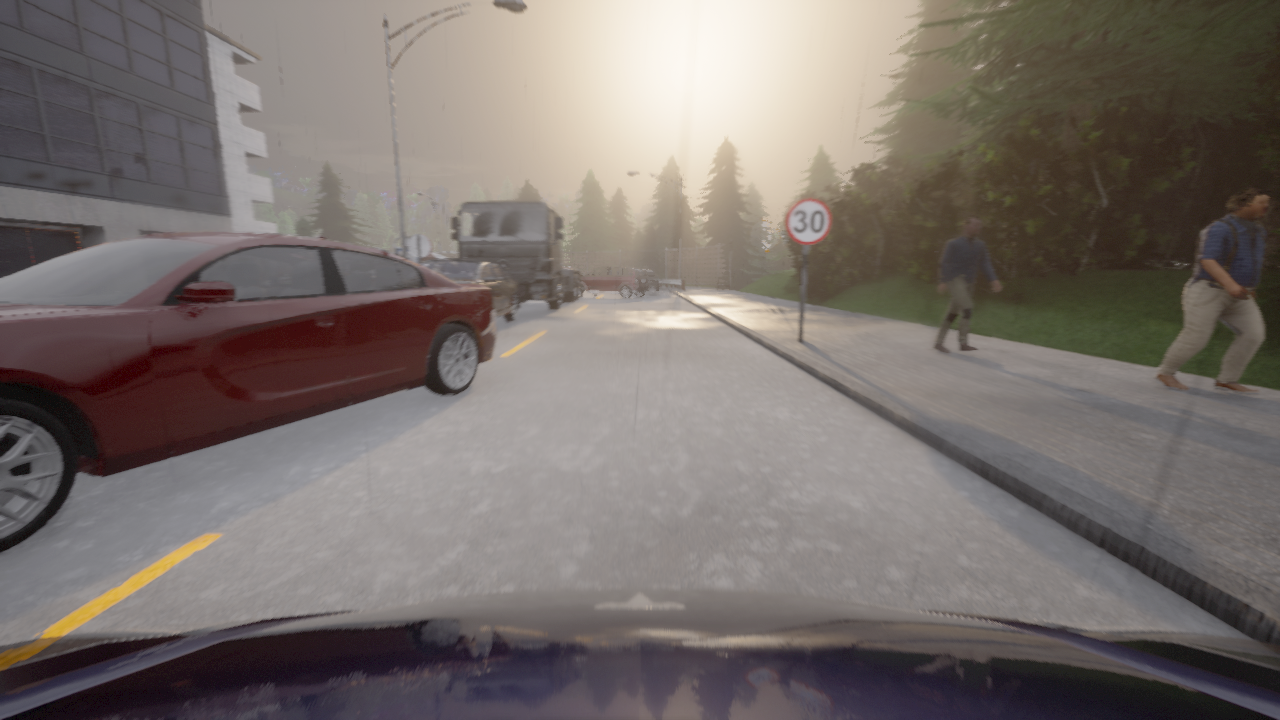cyclist: (0, 588, 1279, 719), (0, 232, 497, 553), (451, 201, 580, 310), (421, 259, 520, 321), (580, 266, 649, 298), (638, 268, 659, 291), (563, 267, 581, 276)
pedestrian: (1153, 186, 1274, 394), (932, 216, 1001, 353)
